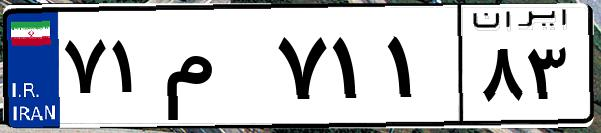1: (385, 28, 445, 110), (330, 28, 385, 110), (110, 28, 158, 98)
3: (525, 38, 570, 115)
7: (270, 28, 330, 110), (57, 26, 110, 100)
8: (475, 38, 525, 113)
م: (158, 20, 270, 120)
